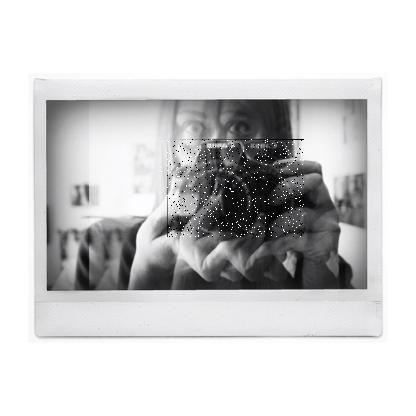Camera: (168, 140, 306, 239)
